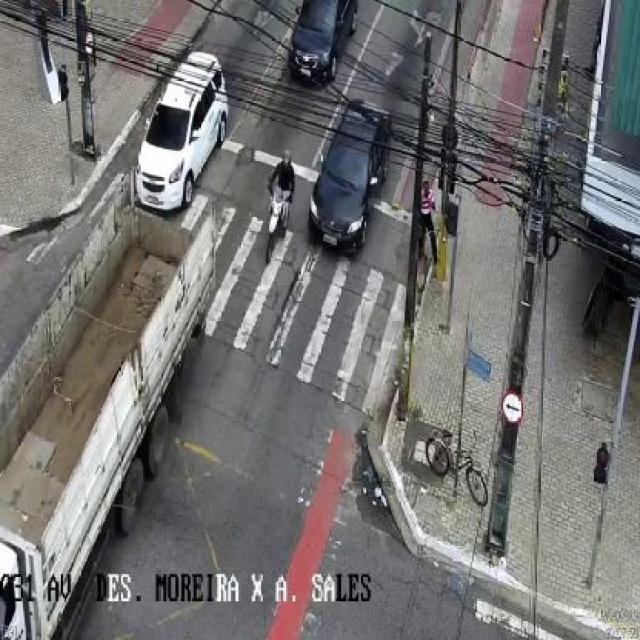Car: (136, 50, 229, 214), (310, 98, 393, 254), (287, 0, 358, 83)
Cycle: (424, 429, 488, 506), (264, 182, 290, 262)
Truck: (0, 167, 223, 640)
